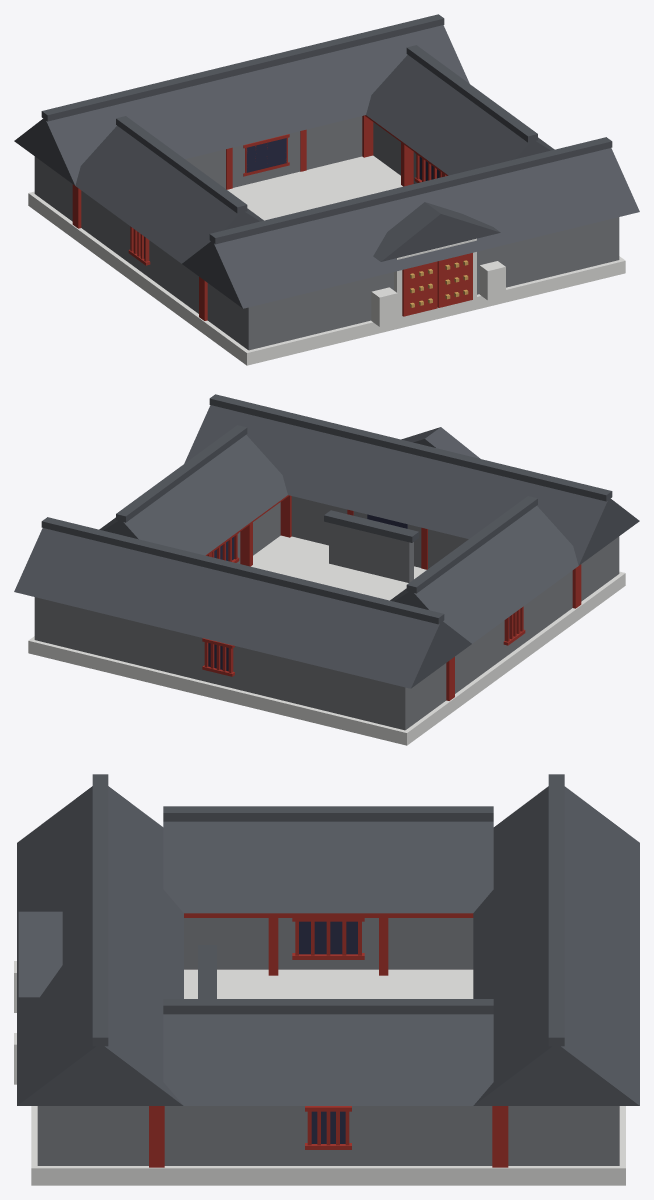
The model's file is house-2x2-1f-siheyuan-a.glb.
3 views of the same model, one above another, from view 1: azimuth 30°, elevation 25°; view 2: azimuth 150°, elevation 25°; view 3: azimuth 270°, elevation 25° (orthographic). The views are drawn at different scales.
Visible parts, largest first — view 1: house-2x2-1f-siheyuan-a; view 2: house-2x2-1f-siheyuan-a; view 3: house-2x2-1f-siheyuan-a.
Part boxes in pixels (box(x1,y1,x2,y2)): house-2x2-1f-siheyuan-a: box(14, 14, 639, 365); house-2x2-1f-siheyuan-a: box(14, 394, 639, 745); house-2x2-1f-siheyuan-a: box(14, 774, 639, 1185).
Bounding box in the file's own units: 1.98 × 0.54 × 1.99.
Materials: 1 (1 with a texture image).
